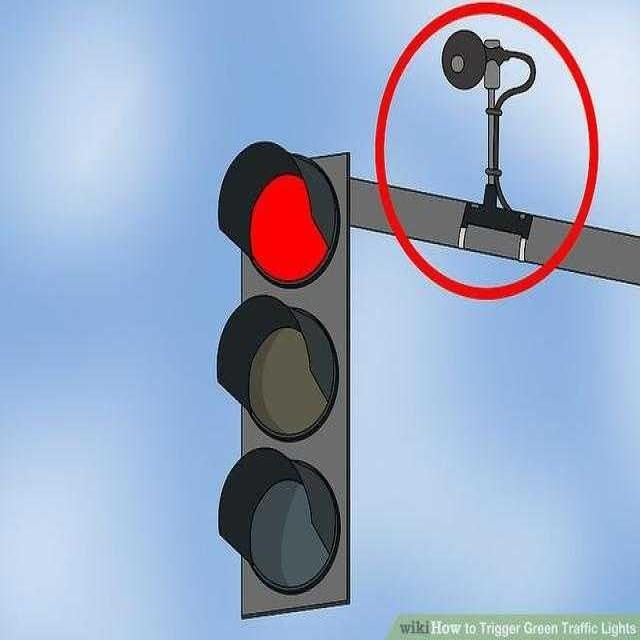Traffic Light -Red-: (199, 138, 360, 618)
